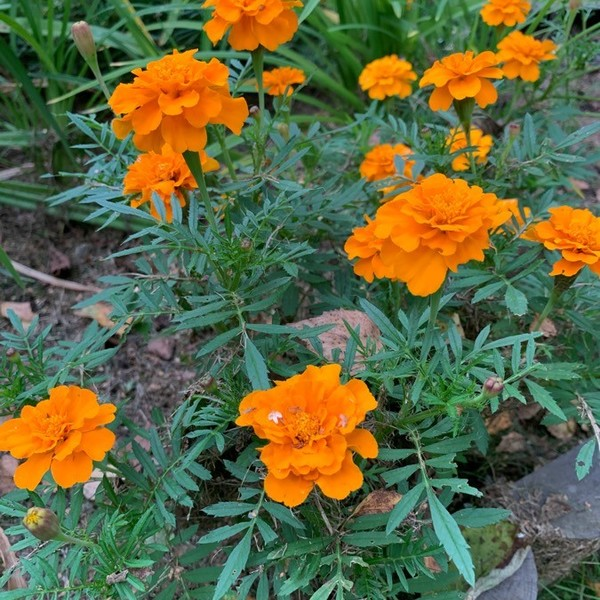obstacle: (54, 71, 536, 480)
